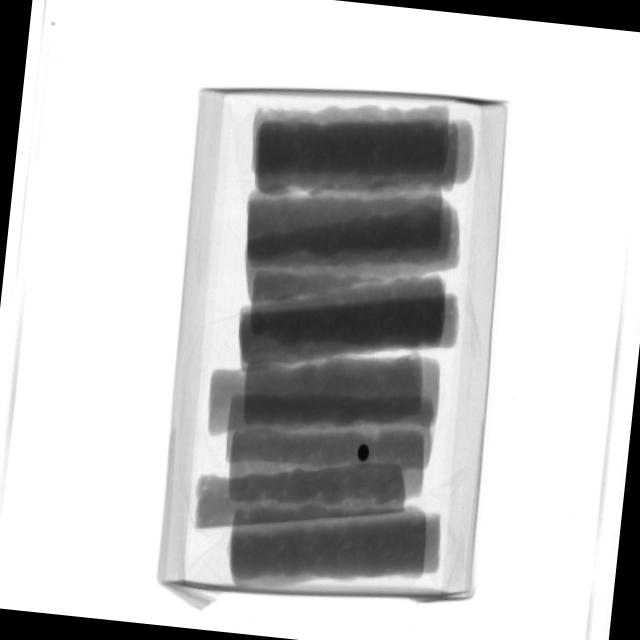ym: (359, 444, 372, 464)
